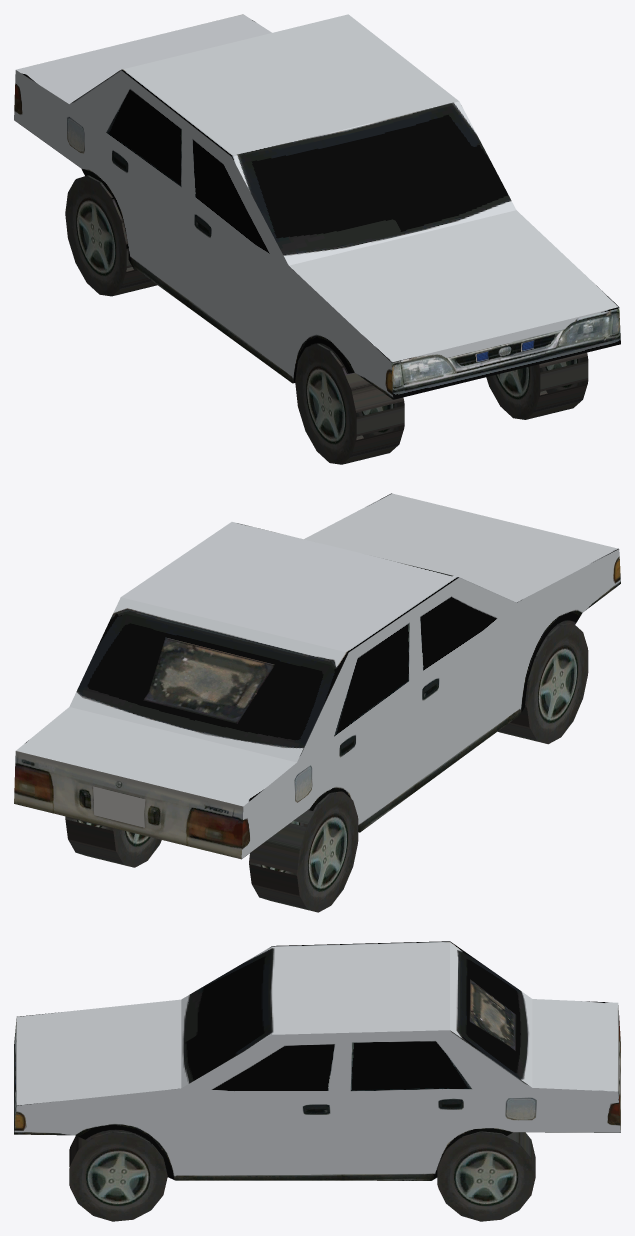
The model's file is car.fbx.
3 views of the same model, one above another, from view 1: azimuth 30°, elevation 25°; view 2: azimuth 150°, elevation 25°; view 3: azimuth 270°, elevation 25° (orthographic). The views are drawn at different scales.
Visible parts, largest first — view 1: body, wheel2, wheel2.001, wheel1; view 2: body, wheel2.001, wheel2, wheel1.001; view 3: body, wheel1.001, wheel1.
Boxes of the visible parts, x1=… form: body: x1=14, y1=14, x2=620, y2=399; wheel2: x1=295, y1=343, x2=404, y2=464; wheel2.001: x1=65, y1=175, x2=157, y2=296; wheel1: x1=486, y1=352, x2=588, y2=419; body: x1=14, y1=493, x2=620, y2=859; wheel2.001: x1=249, y1=791, x2=358, y2=912; wheel2: x1=498, y1=623, x2=588, y2=744; wheel1.001: x1=65, y1=816, x2=161, y2=867; body: x1=14, y1=941, x2=620, y2=1180; wheel1.001: x1=437, y1=1131, x2=535, y2=1221; wheel1: x1=69, y1=1131, x2=167, y2=1221.
Size of the model in its own units: 184 by 181 by 522.
